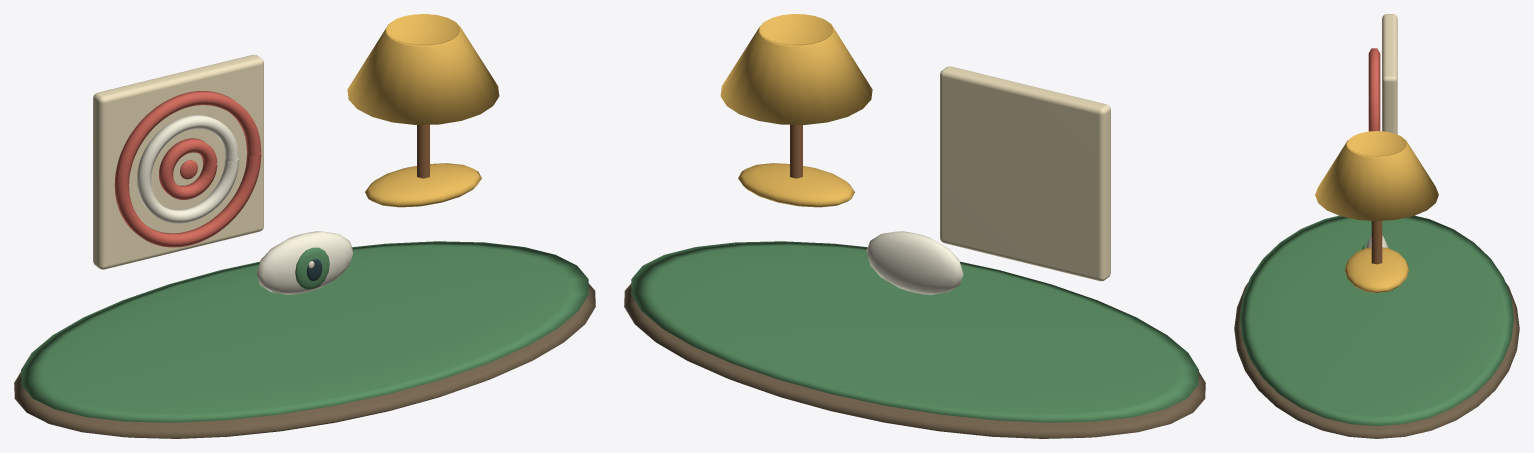
File: complete-first-focus-on-idea.glb
3 renders of one model, left to right at view 1: azimuth 30°, elevation 25°; view 2: azimuth 150°, elevation 25°; view 3: azimuth 270°, elevation 25°, orthographic. The views are drawn at different scales.
Visible parts, largest first — view 1: complete-first-focus-on-idea_surface_01, complete-first-focus-on-idea_surface_02, complete-first-focus-on-idea_surface_05, complete-first-focus-on-idea_surface_00, complete-first-focus-on-idea_surface_03, complete-first-focus-on-idea_surface_04, complete-first-focus-on-idea_surface_06; view 2: complete-first-focus-on-idea_surface_01, complete-first-focus-on-idea_surface_02, complete-first-focus-on-idea_surface_05, complete-first-focus-on-idea_surface_00, complete-first-focus-on-idea_surface_04, complete-first-focus-on-idea_surface_06; view 3: complete-first-focus-on-idea_surface_01, complete-first-focus-on-idea_surface_05, complete-first-focus-on-idea_surface_00, complete-first-focus-on-idea_surface_02, complete-first-focus-on-idea_surface_03, complete-first-focus-on-idea_surface_06.
Part boxes in pixels (x1=…): complete-first-focus-on-idea_surface_01: x1=21, y1=241, x2=588, y2=422; complete-first-focus-on-idea_surface_02: x1=93, y1=54, x2=263, y2=269; complete-first-focus-on-idea_surface_05: x1=347, y1=14, x2=499, y2=207; complete-first-focus-on-idea_surface_00: x1=14, y1=283, x2=595, y2=438; complete-first-focus-on-idea_surface_03: x1=114, y1=91, x2=261, y2=247; complete-first-focus-on-idea_surface_04: x1=137, y1=114, x2=353, y2=294; complete-first-focus-on-idea_surface_06: x1=417, y1=124, x2=429, y2=178; complete-first-focus-on-idea_surface_01: x1=631, y1=241, x2=1198, y2=422; complete-first-focus-on-idea_surface_02: x1=940, y1=66, x2=1110, y2=281; complete-first-focus-on-idea_surface_05: x1=720, y1=14, x2=872, y2=207; complete-first-focus-on-idea_surface_00: x1=624, y1=283, x2=1205, y2=438; complete-first-focus-on-idea_surface_04: x1=866, y1=231, x2=963, y2=294; complete-first-focus-on-idea_surface_06: x1=790, y1=124, x2=802, y2=178; complete-first-focus-on-idea_surface_01: x1=1240, y1=215, x2=1513, y2=426; complete-first-focus-on-idea_surface_05: x1=1315, y1=131, x2=1438, y2=292; complete-first-focus-on-idea_surface_00: x1=1234, y1=282, x2=1519, y2=438; complete-first-focus-on-idea_surface_02: x1=1382, y1=14, x2=1397, y2=134; complete-first-focus-on-idea_surface_03: x1=1368, y1=48, x2=1380, y2=131; complete-first-focus-on-idea_surface_06: x1=1371, y1=221, x2=1382, y2=264.
Size of the model in its own units: 4.56 by 2.42 by 2.5.
